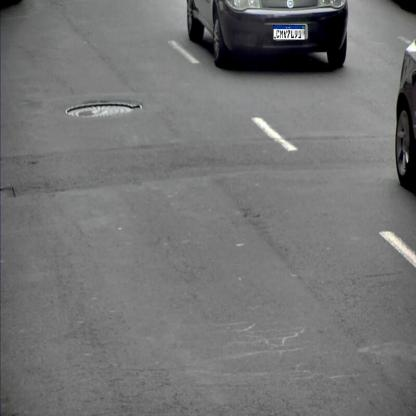PlacaM: (273, 25, 305, 40)
